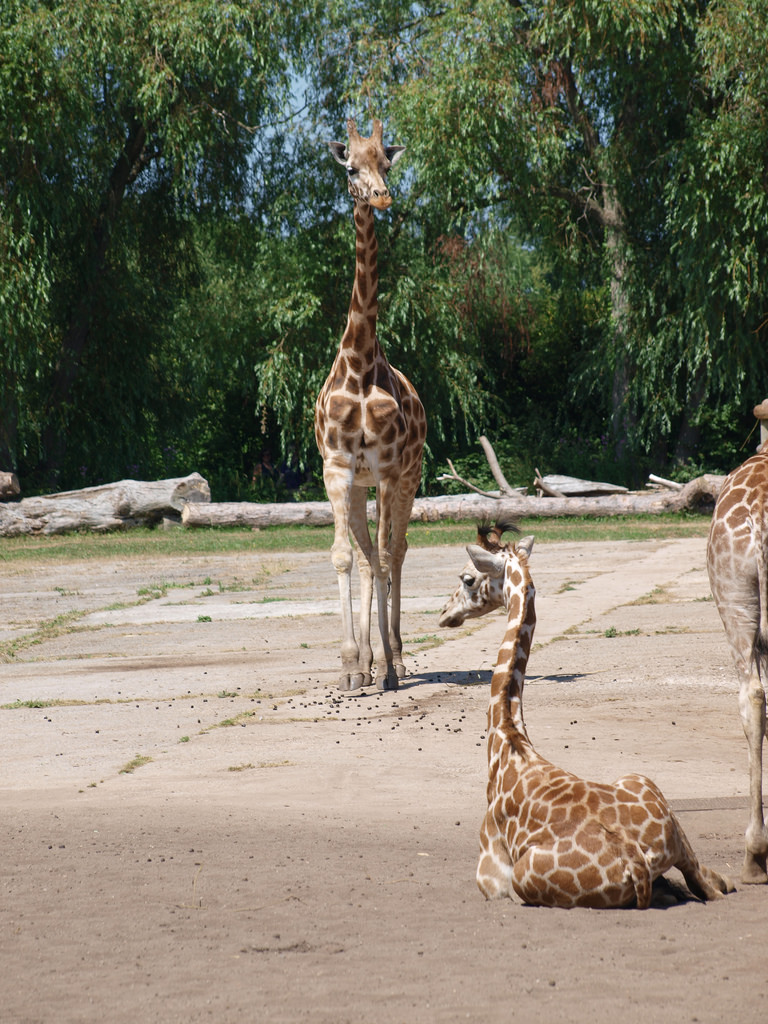giraffe: (412, 504, 740, 929), (292, 100, 447, 702), (680, 361, 768, 891)
